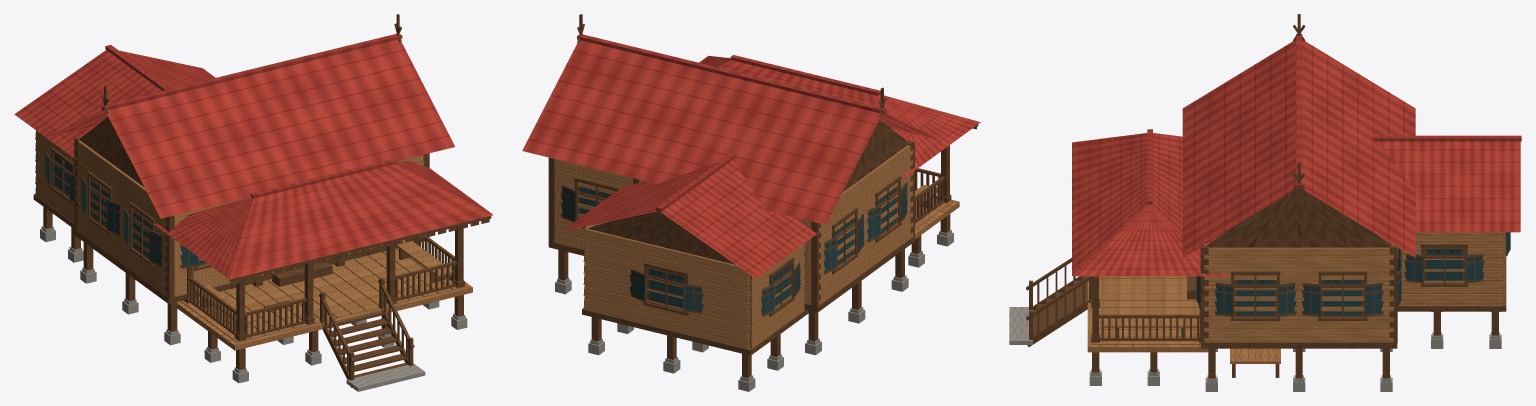
File: rumah_tok_wan.glb
The picture shows the model from 3 angles, left to right: view 1: azimuth 30°, elevation 25°; view 2: azimuth 150°, elevation 25°; view 3: azimuth 270°, elevation 25°; orthographic projection. The views are drawn at different scales.
Parts seen in each view (by area): view 1: Rumah_Tok_Wan; view 2: Rumah_Tok_Wan; view 3: Rumah_Tok_Wan.
Boxes of the visible parts, x1,y1,x2,y2 form: Rumah_Tok_Wan: (14,14,492,391); Rumah_Tok_Wan: (522,14,980,391); Rumah_Tok_Wan: (1009,14,1521,391).
Size of the model in its own units: 9.8 by 7.39 by 14.1.
1 material, 1 textured.
